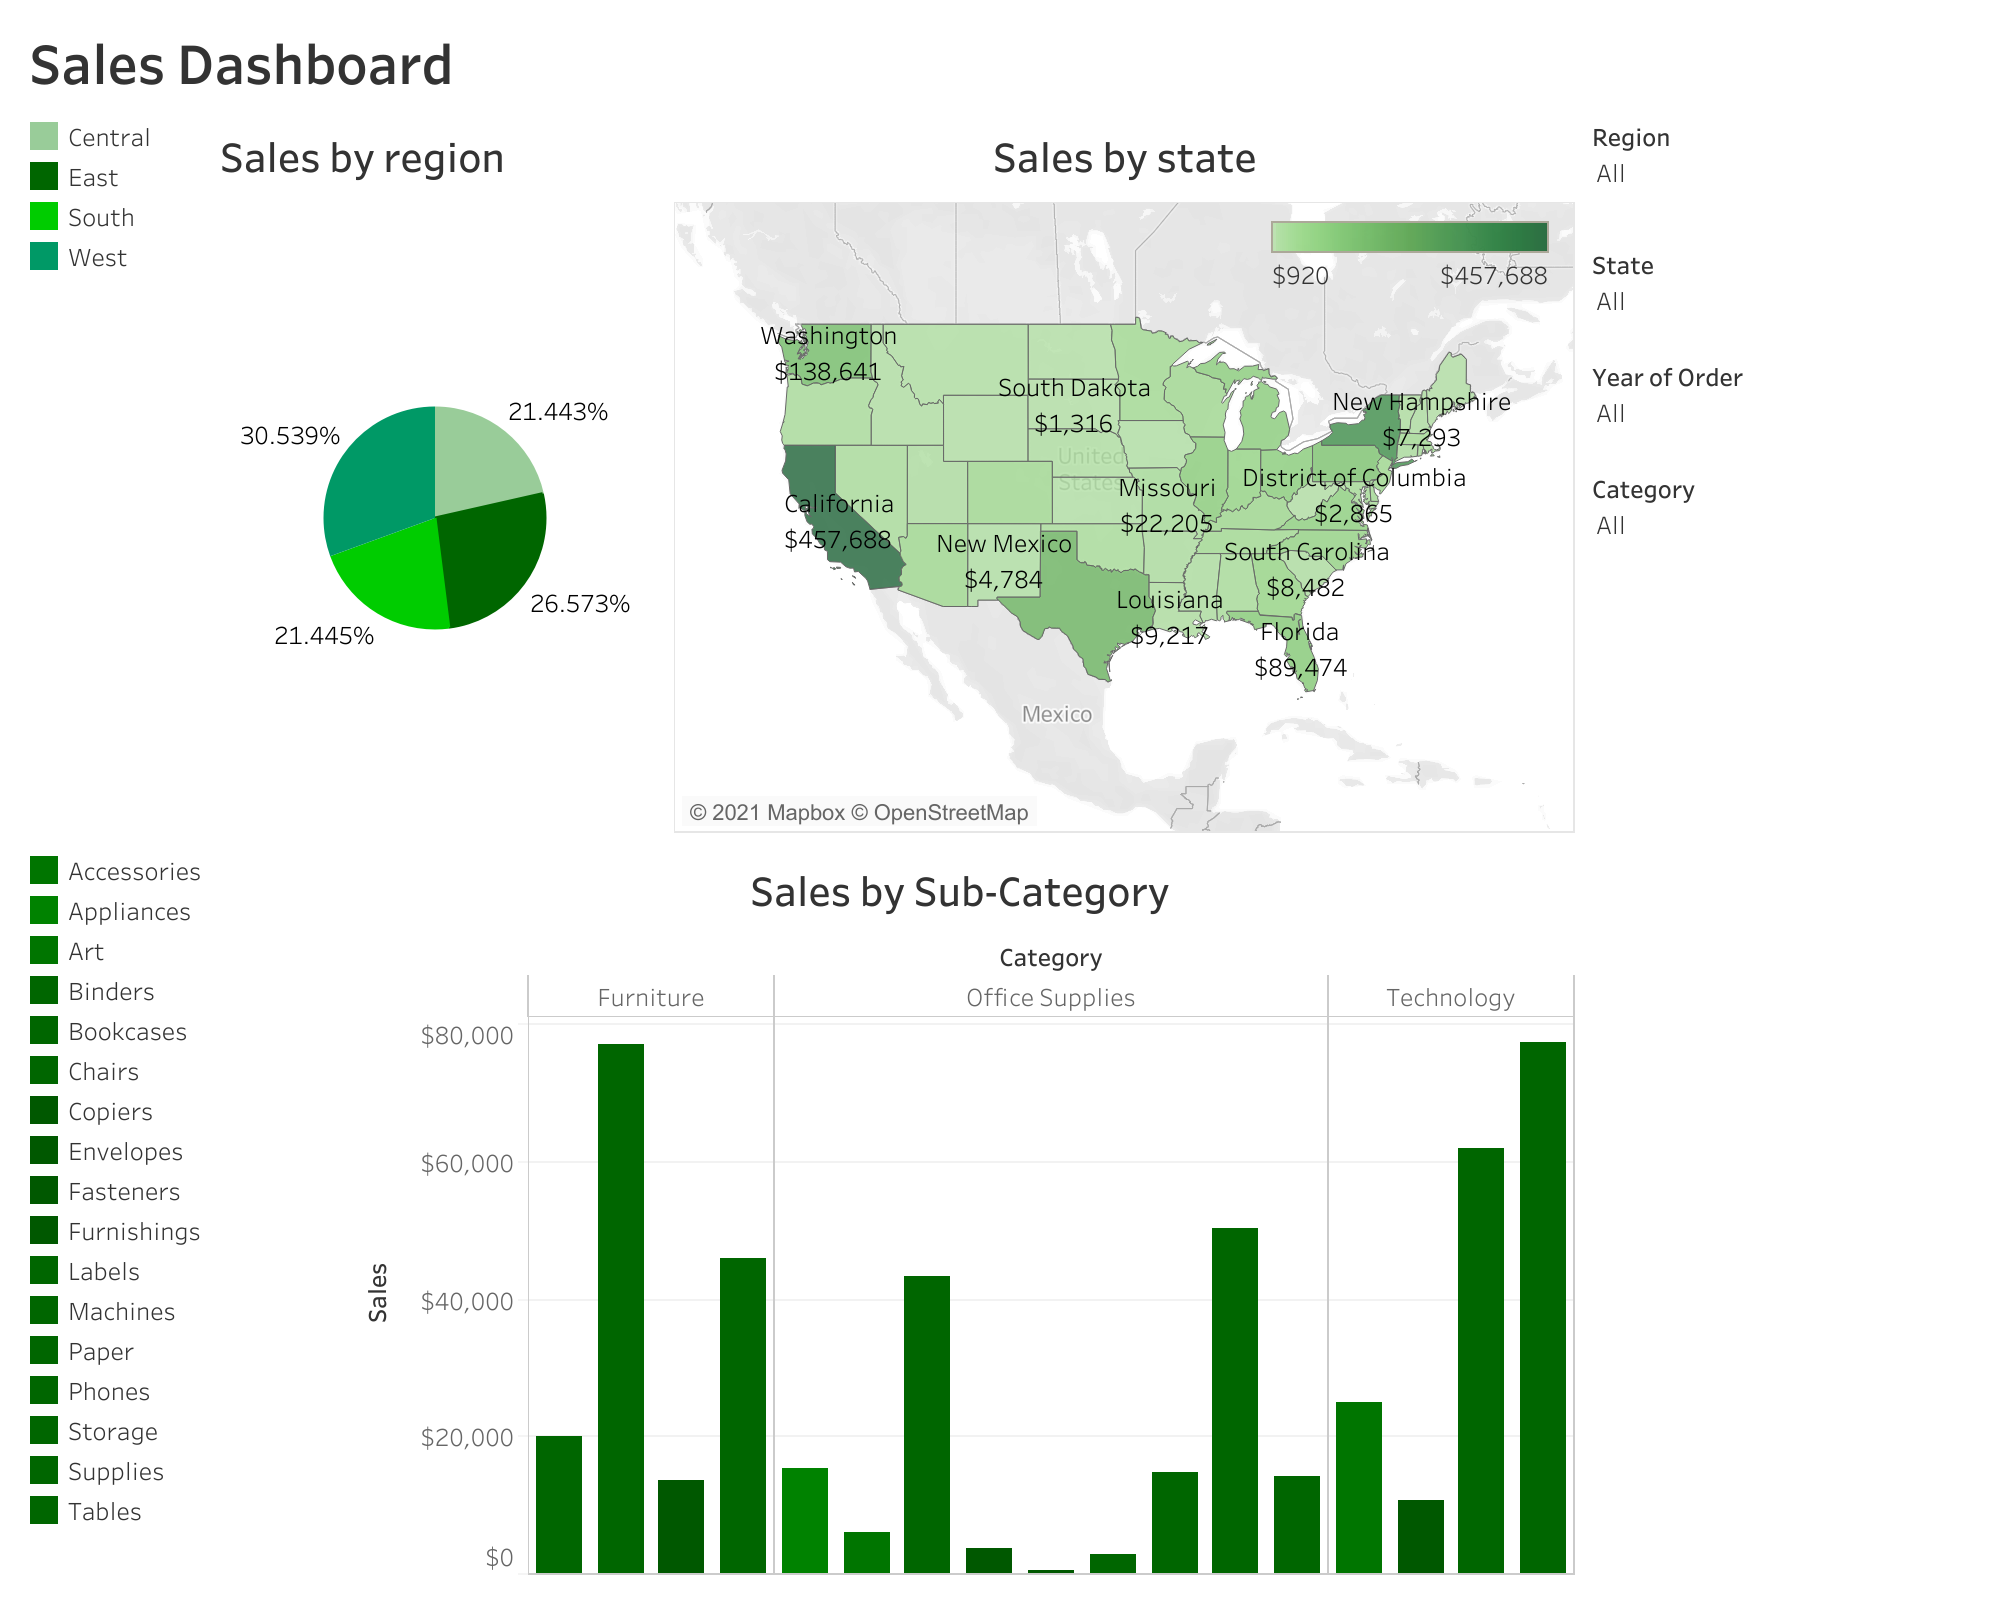

The page's visual inventory and layout, read from the dashboard file:
{"tool":"tableau","page":{"name":"Sales Dashboard","canvas":[1000,1000],"units":"permille","ordinal":3},"visuals":[{"type":"title","box":[8,10,984,56.2]},{"type":"legend","title":"Sales by region","param":"[federated.1ija8d40sle75313g71o6096lhys].[none:Region:nk]","box":[8,66.2,94,459.1]},{"type":"worksheet","title":"Sales by region","mark":"Pie","box":[102,66.2,231,459.1]},{"type":"worksheet","title":"Sales by state","mark":"Automatic","box":[333,66.2,459,459.1]},{"type":"filter","title":"Sales by region","param":"[federated.1ija8d40sle75313g71o6096lhys].[none:Region:nk]","box":[792,66.2,200,80]},{"type":"legend","title":"Sales by state","param":"[federated.1ija8d40sle75313g71o6096lhys].[sum:Sales:qk]","box":[632,133.8,147,77.5]},{"type":"filter","title":"Sales by state","param":"[federated.1ija8d40sle75313g71o6096lhys].[none:State:nk]","box":[792,146.2,200,65]},{"type":"filter","title":"Sales by Sub-Category","param":"[federated.1ija8d40sle75313g71o6096lhys].[yr:Order Date:ok]","box":[792,211.2,200,65]},{"type":"filter","title":"Sales by Sub-Category","param":"[federated.1ija8d40sle75313g71o6096lhys].[none:Category:nk]","box":[792,276.2,200,65]},{"type":"legend","title":"Sales by Sub-Category","param":"[federated.1ija8d40sle75313g71o6096lhys].[none:Sub-Category:nk]","box":[8,525.3,160,464.7]},{"type":"worksheet","title":"Sales by Sub-Category","mark":"Automatic","rows":["Sales"],"cols":["Category","Sub-Category"],"box":[168,525.3,624,464.7]}]}

Visuals, with their boxes on the dashboard's canvas, which has no fixed pixel size, in thousandths of its width and height (x1, y1, x2, y2). These are canvas units, not pixel positions in the 1998x1598 screenshot, which may show the page scaled, cropped or inside an application window:
title: l=8, t=10, r=992, b=66
"Sales by region" legend: l=8, t=66, r=102, b=525
"Sales by region" worksheet (Pie marks): l=102, t=66, r=333, b=525
"Sales by state" worksheet: l=333, t=66, r=792, b=525
"Sales by region" filter: l=792, t=66, r=992, b=146
"Sales by state" legend: l=632, t=134, r=779, b=211
"Sales by state" filter: l=792, t=146, r=992, b=211
"Sales by Sub-Category" filter: l=792, t=211, r=992, b=276
"Sales by Sub-Category" filter: l=792, t=276, r=992, b=341
"Sales by Sub-Category" legend: l=8, t=525, r=168, b=990
"Sales by Sub-Category" worksheet: l=168, t=525, r=792, b=990
